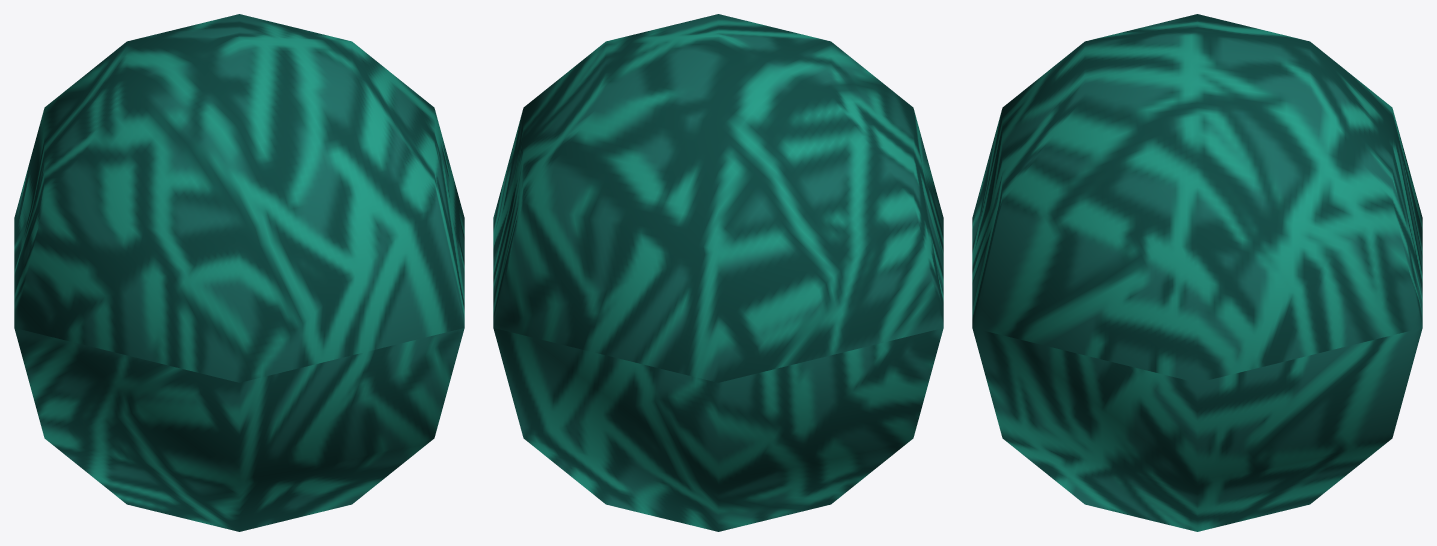
File: e_asset_yarn_teal.fbx
3 views of the same model, side by side, from view 1: azimuth 30°, elevation 25°; view 2: azimuth 150°, elevation 25°; view 3: azimuth 270°, elevation 25° (orthographic).
Parts seen in each view (by area): view 1: pSphere4; view 2: pSphere4; view 3: pSphere4.
Part boxes in pixels (box(x1,y1,x2,y2)): pSphere4: box(14, 14, 464, 531); pSphere4: box(493, 14, 943, 531); pSphere4: box(972, 14, 1422, 531).
Size of the model in its own units: 0.1368 by 0.1368 by 0.1185.
